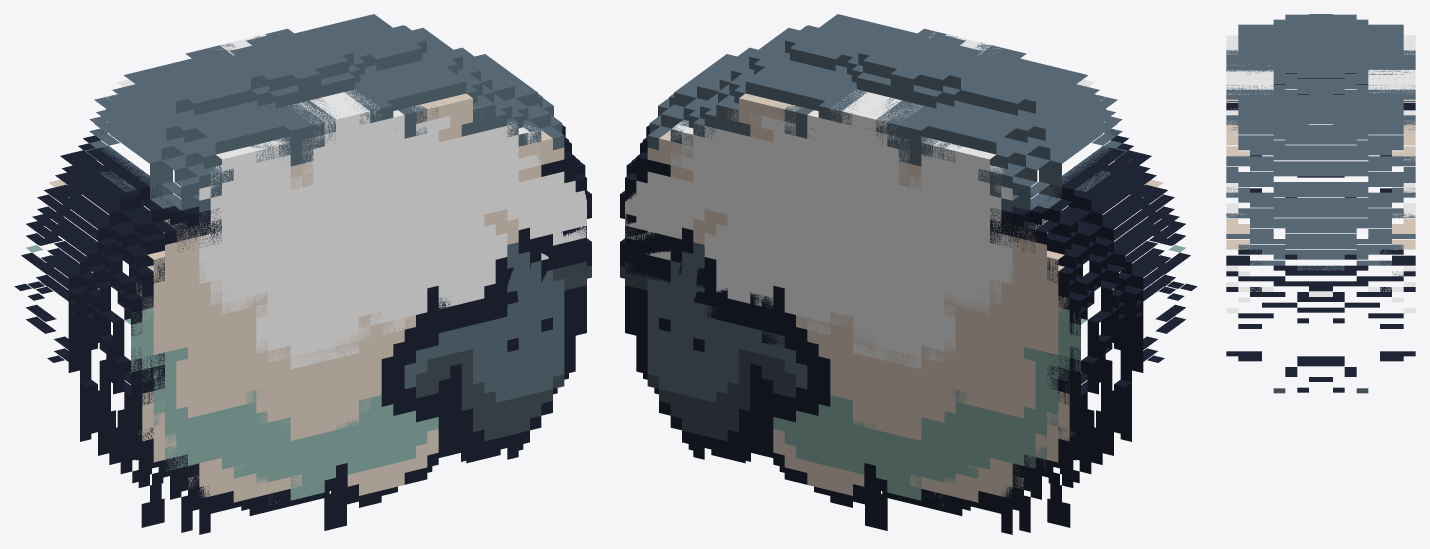
Rendered from ovelha_parada.glb.
3 views of the same model, side by side, from view 1: azimuth 30°, elevation 25°; view 2: azimuth 150°, elevation 25°; view 3: azimuth 270°, elevation 25° (orthographic). The views are drawn at different scales.
Visible parts, largest first — view 1: q0, q1, q2, q4, q5, q3; view 2: q0, q1, q2, q4, q5, q3; view 3: q0, q1, q4, q2, q5, q3.
Part boxes in pixels (x1,y1,x2,y2): q0: (26,17,591,534); q1: (14,21,591,507); q2: (26,37,586,501); q4: (26,14,586,519); q5: (27,30,586,499); q3: (36,34,586,534); q0: (620,17,1185,534); q1: (620,20,1197,506); q2: (625,37,1185,501); q4: (625,14,1185,520); q5: (625,30,1184,501); q3: (625,35,1175,534); q0: (1226,24,1415,392); q1: (1226,19,1415,318); q4: (1226,100,1415,361); q2: (1226,14,1415,393); q5: (1226,30,1415,259); q3: (1226,43,1415,291).
Bounding box in the file's own units: 45 × 40 × 16.
Materials: 1 (1 with a texture image).
